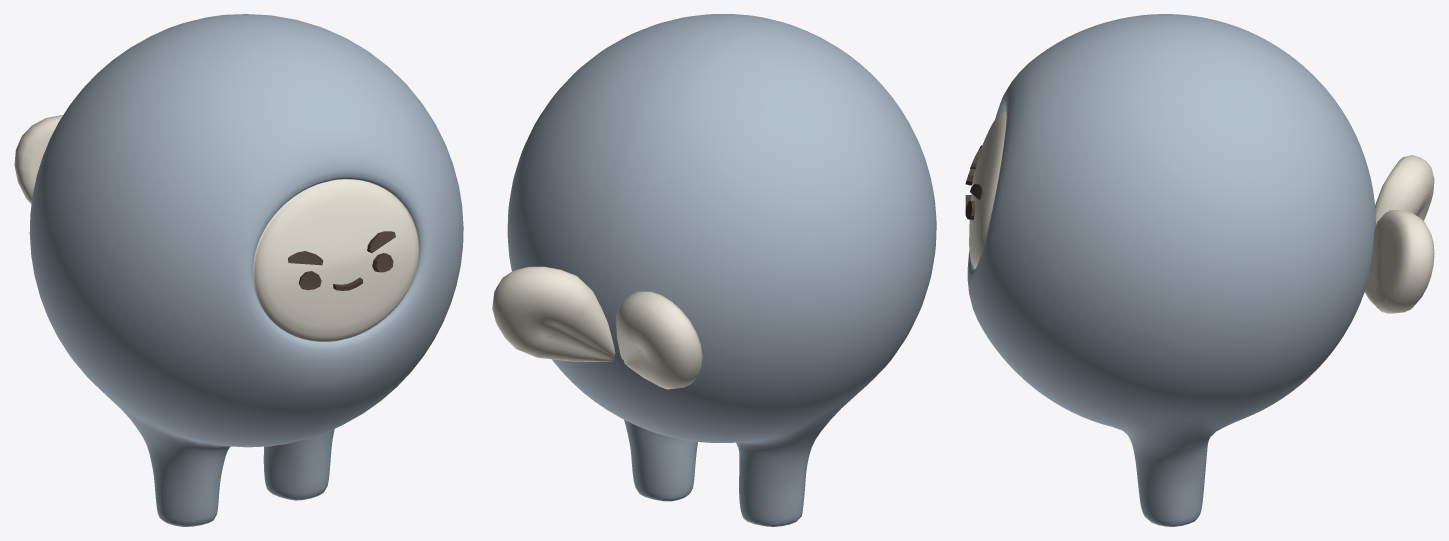
Rendered from Wind_V1.fbx.
3 renders of one model, left to right at view 1: azimuth 30°, elevation 25°; view 2: azimuth 150°, elevation 25°; view 3: azimuth 270°, elevation 25°, orthographic. The views are drawn at different scales.
Parts seen in each view (by area): view 1: polySurface3, polySurface2, pasted__eyebrow, pasted__eye; view 2: polySurface3, polySurface1, polySurface2; view 3: polySurface3, polySurface1, polySurface2.
Boxes of the visible parts, x1,y1,x2,y2 form: polySurface3: (29,14,463,526); polySurface2: (14,115,62,204); pasted__eyebrow: (288,231,395,265); pasted__eye: (299,253,393,290); polySurface3: (507,14,936,526); polySurface1: (492,266,615,361); polySurface2: (616,291,702,389); polySurface3: (967,14,1375,526); polySurface1: (1364,210,1434,313); polySurface2: (1375,155,1434,224).
Bounding box in the file's own units: 3.08 × 3.7 × 3.44.
